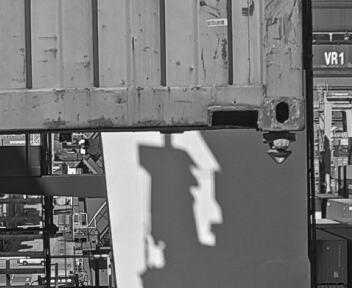twist_lock_2: (159, 157, 215, 200)
